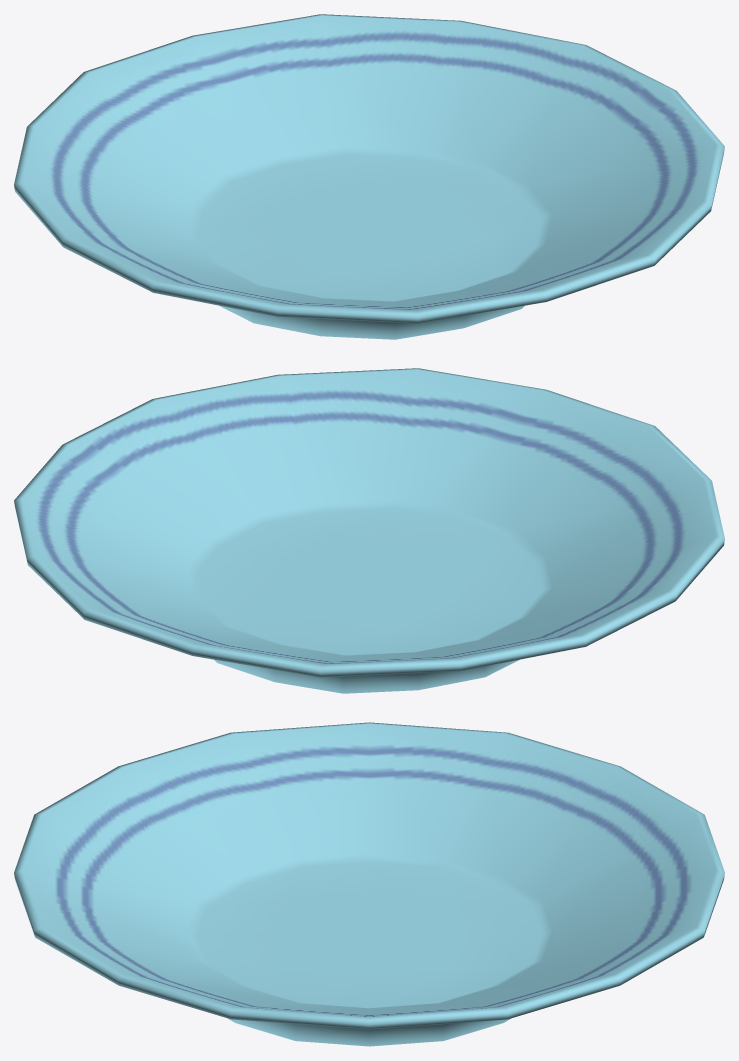
File: Lab_Plate_2.fbx
3 views of the same model, one above another, from view 1: azimuth 30°, elevation 25°; view 2: azimuth 150°, elevation 25°; view 3: azimuth 270°, elevation 25° (orthographic).
Parts seen in each view (by area): view 1: Lab_Plate_2; view 2: Lab_Plate_2; view 3: Lab_Plate_2.
Part boxes in pixels (x1,y1,x2,y2): Lab_Plate_2: (14, 14, 724, 339); Lab_Plate_2: (14, 368, 724, 693); Lab_Plate_2: (14, 722, 724, 1046).
Size of the model in its own units: 51.69 by 7.68 by 51.69.
Materials: 1 (1 with a texture image).
